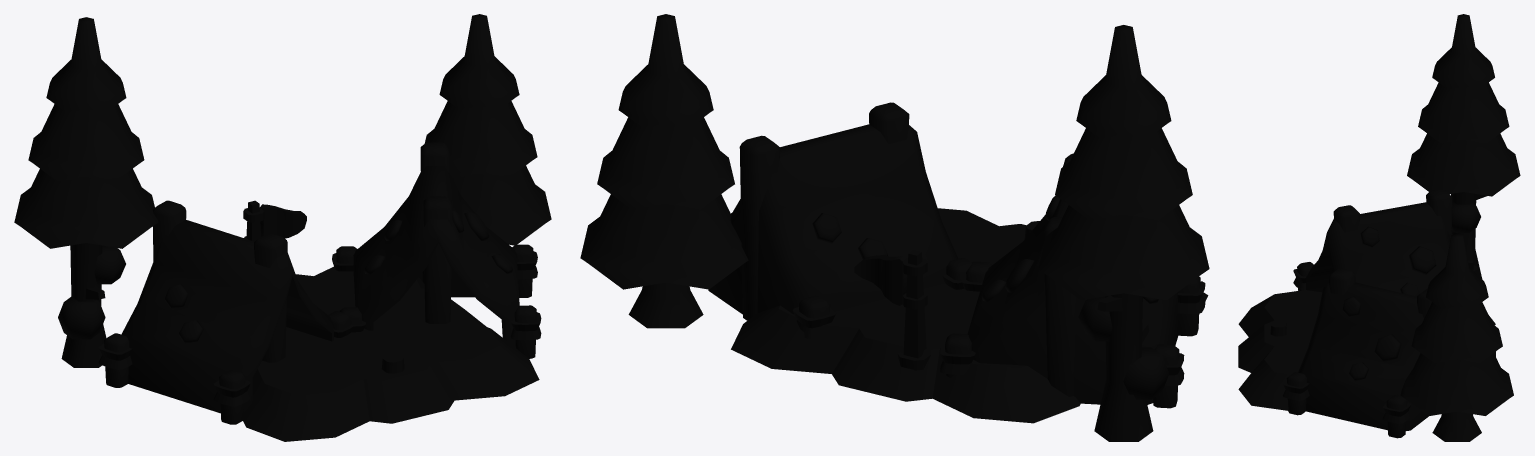
The model's file is camp.glb.
The picture shows the model from 3 angles, left to right: view 1: azimuth 30°, elevation 25°; view 2: azimuth 150°, elevation 25°; view 3: azimuth 270°, elevation 25°; orthographic projection. The views are drawn at different scales.
Parts seen in each view (by area): view 1: patch-dirt; view 2: patch-dirt; view 3: patch-dirt.
Boxes of the visible parts, box(x1,y1,x2,y2) form: patch-dirt: box(14, 14, 551, 441); patch-dirt: box(580, 14, 1209, 441); patch-dirt: box(1238, 14, 1520, 441).
Size of the model in its own units: 3.68 by 2.28 by 2.19.
1 material, 1 textured.
